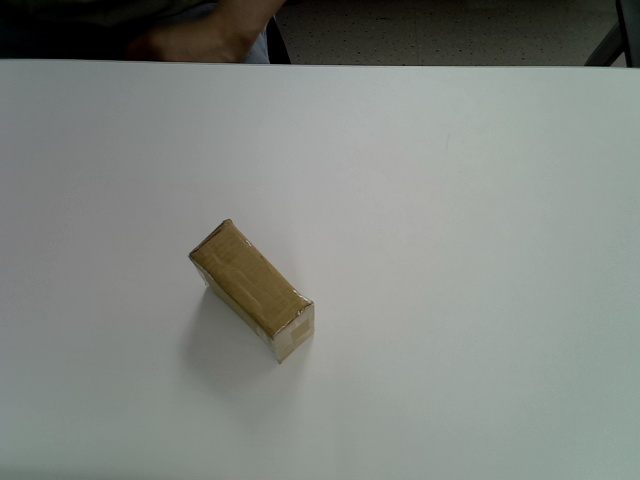normal: (188, 219, 315, 365)
